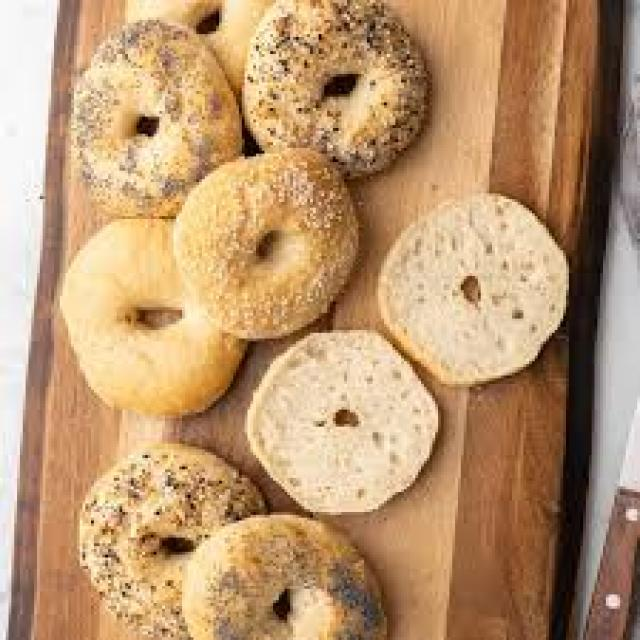Bagel: (60, 219, 246, 414), (80, 445, 266, 639), (379, 194, 566, 386), (248, 331, 439, 514), (176, 149, 358, 339), (70, 20, 241, 217), (246, 0, 422, 177), (182, 516, 385, 640)
